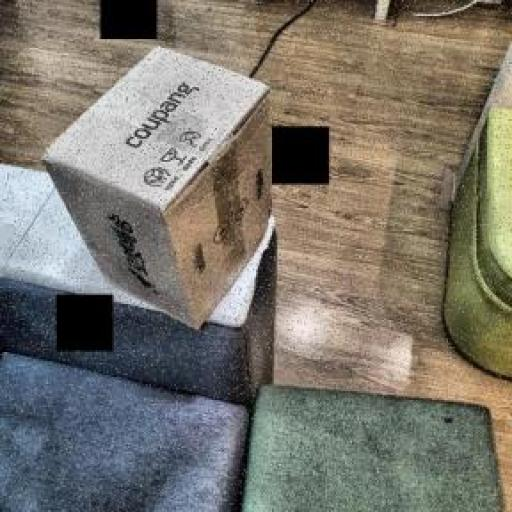box: (36, 40, 284, 337)
